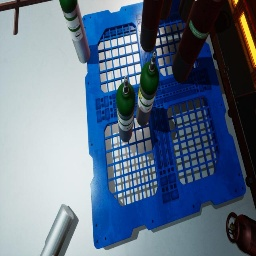0: (59, 0, 90, 64), (38, 204, 74, 256), (136, 51, 159, 126), (116, 76, 136, 142)
NitrogenTank ,: (172, 0, 226, 82), (226, 212, 256, 256), (140, 0, 164, 52), (179, 0, 194, 22), (160, 0, 173, 20)
